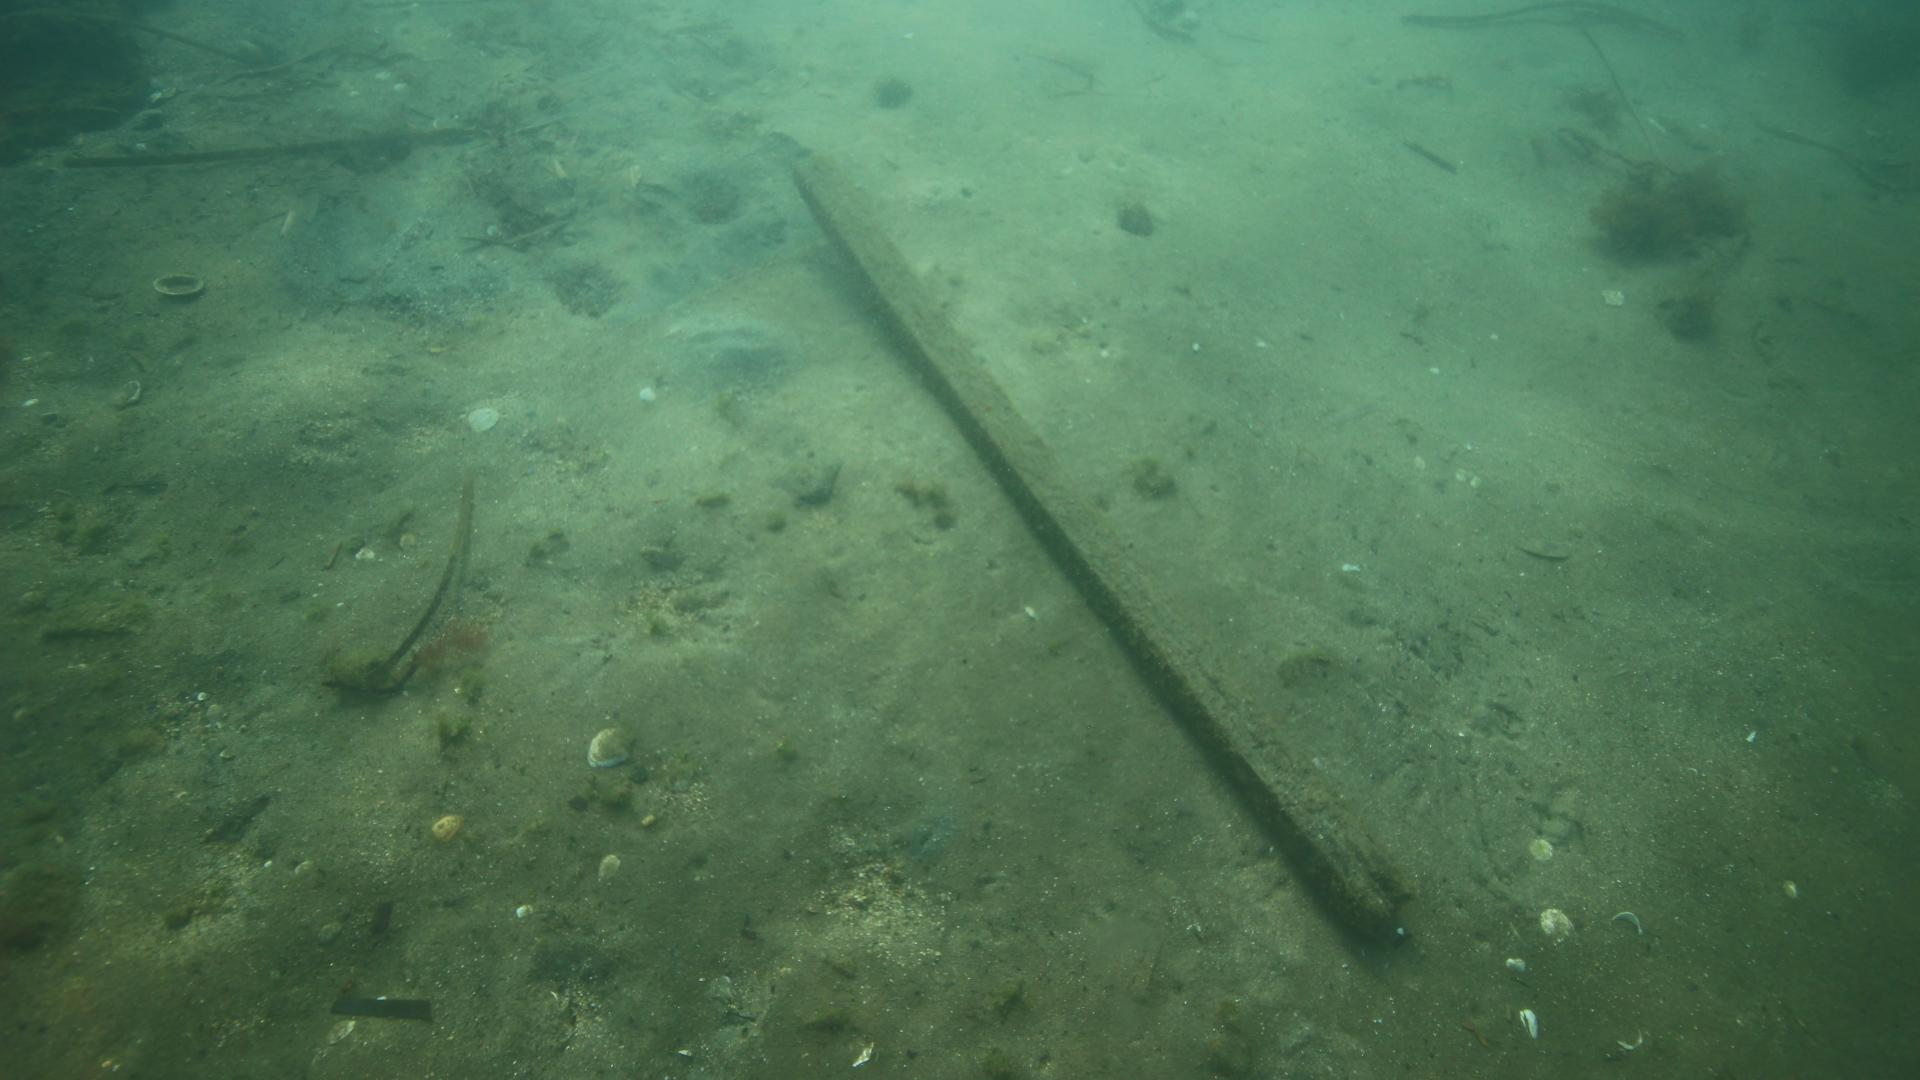wood: (793, 153, 1419, 938)
